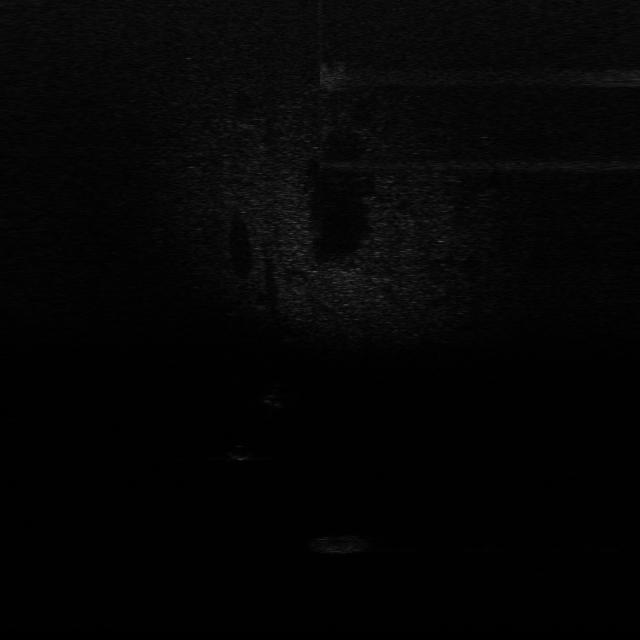ball: (224, 442, 253, 462)
circle cage: (307, 530, 373, 557)
human body: (264, 379, 286, 420)
